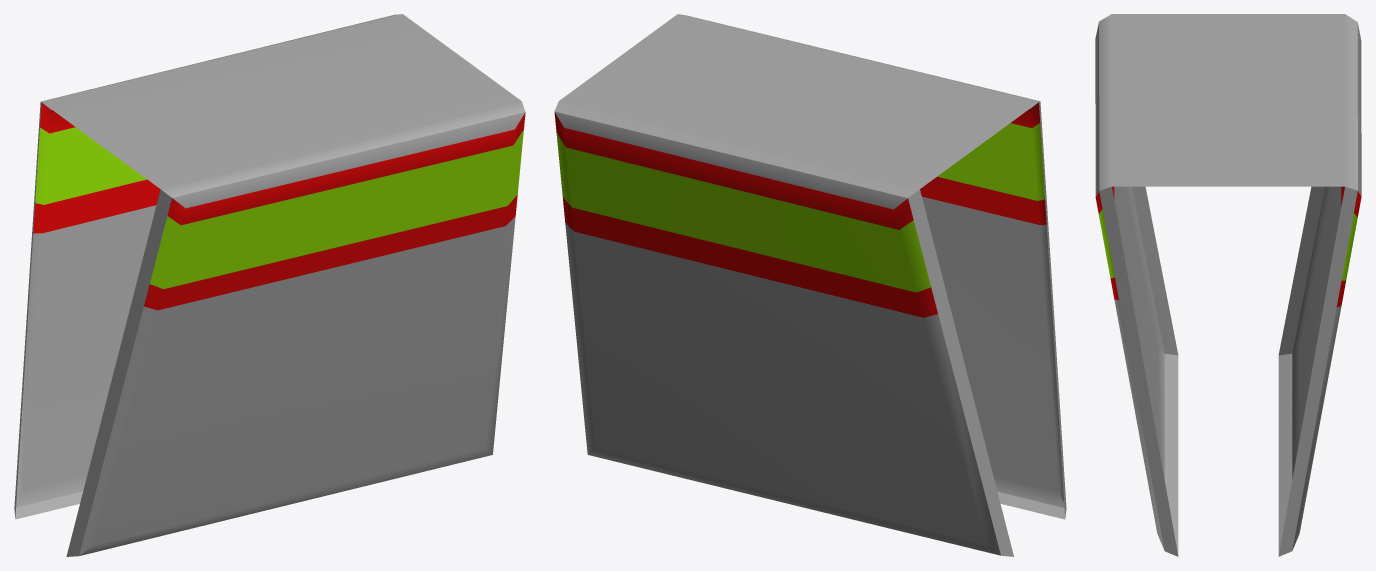
Rendered from Imur 3.3.fbx.
3 renders of one model, left to right at view 1: azimuth 30°, elevation 25°; view 2: azimuth 150°, elevation 25°; view 3: azimuth 270°, elevation 25°, orthographic. The views are drawn at different scales.
Parts seen in each view (by area): view 1: Imur_3_3; view 2: Imur_3_3; view 3: Imur_3_3.
Part boxes in pixels (x1=…): Imur_3_3: x1=14, y1=14, x2=525, y2=556; Imur_3_3: x1=554, y1=14, x2=1066, y2=556; Imur_3_3: x1=1095, y1=14, x2=1361, y2=556.
Size of the model in its own units: 350 by 300 by 195.
